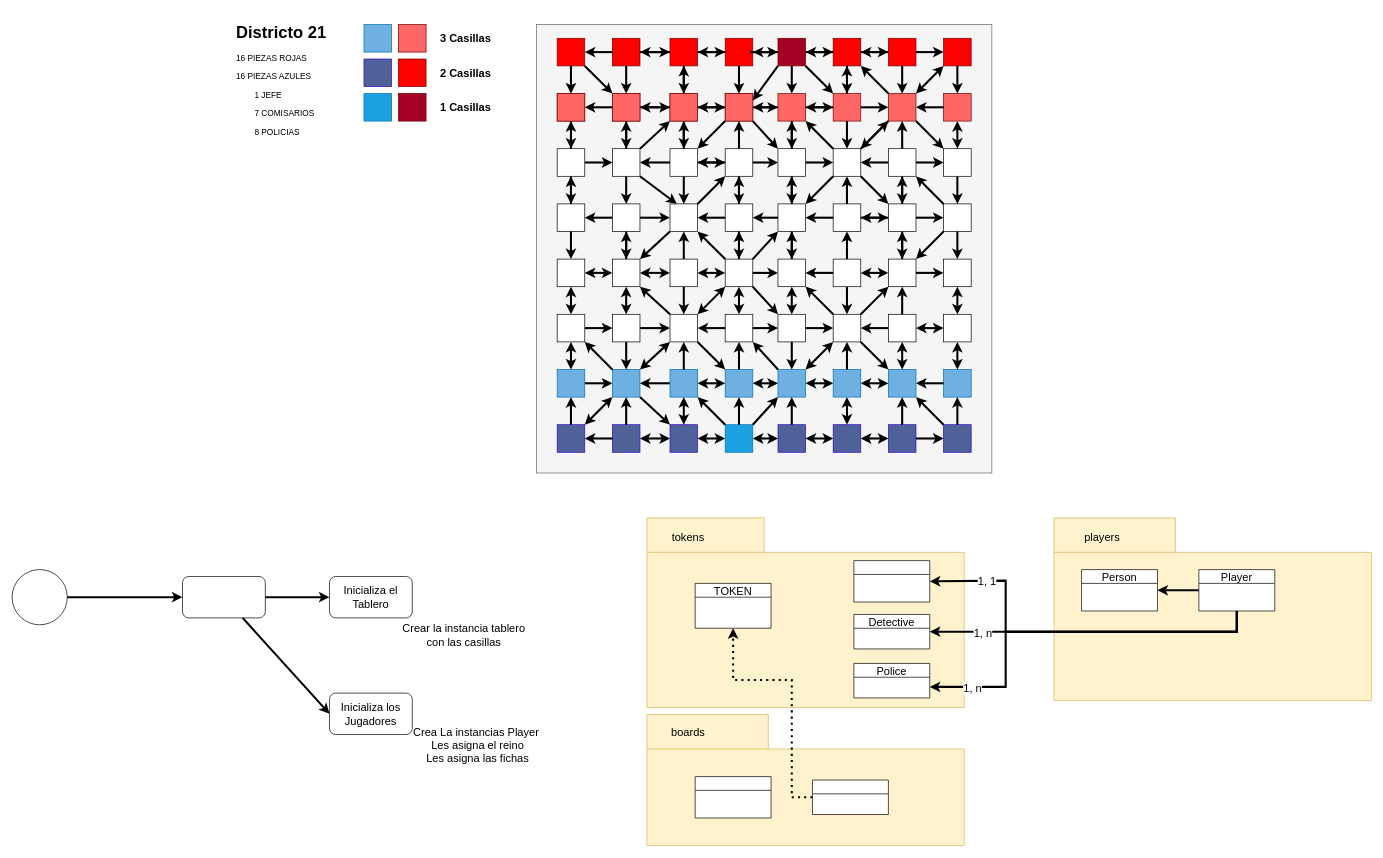
This 1383x858 diagram has some shape labels left out. The centre of each missing label's shape, as x and y in pixels:
Board: pixel 732 797
Box: pixel 850 797
Chief: pixel 891 581
Start Game: pixel 223 597
